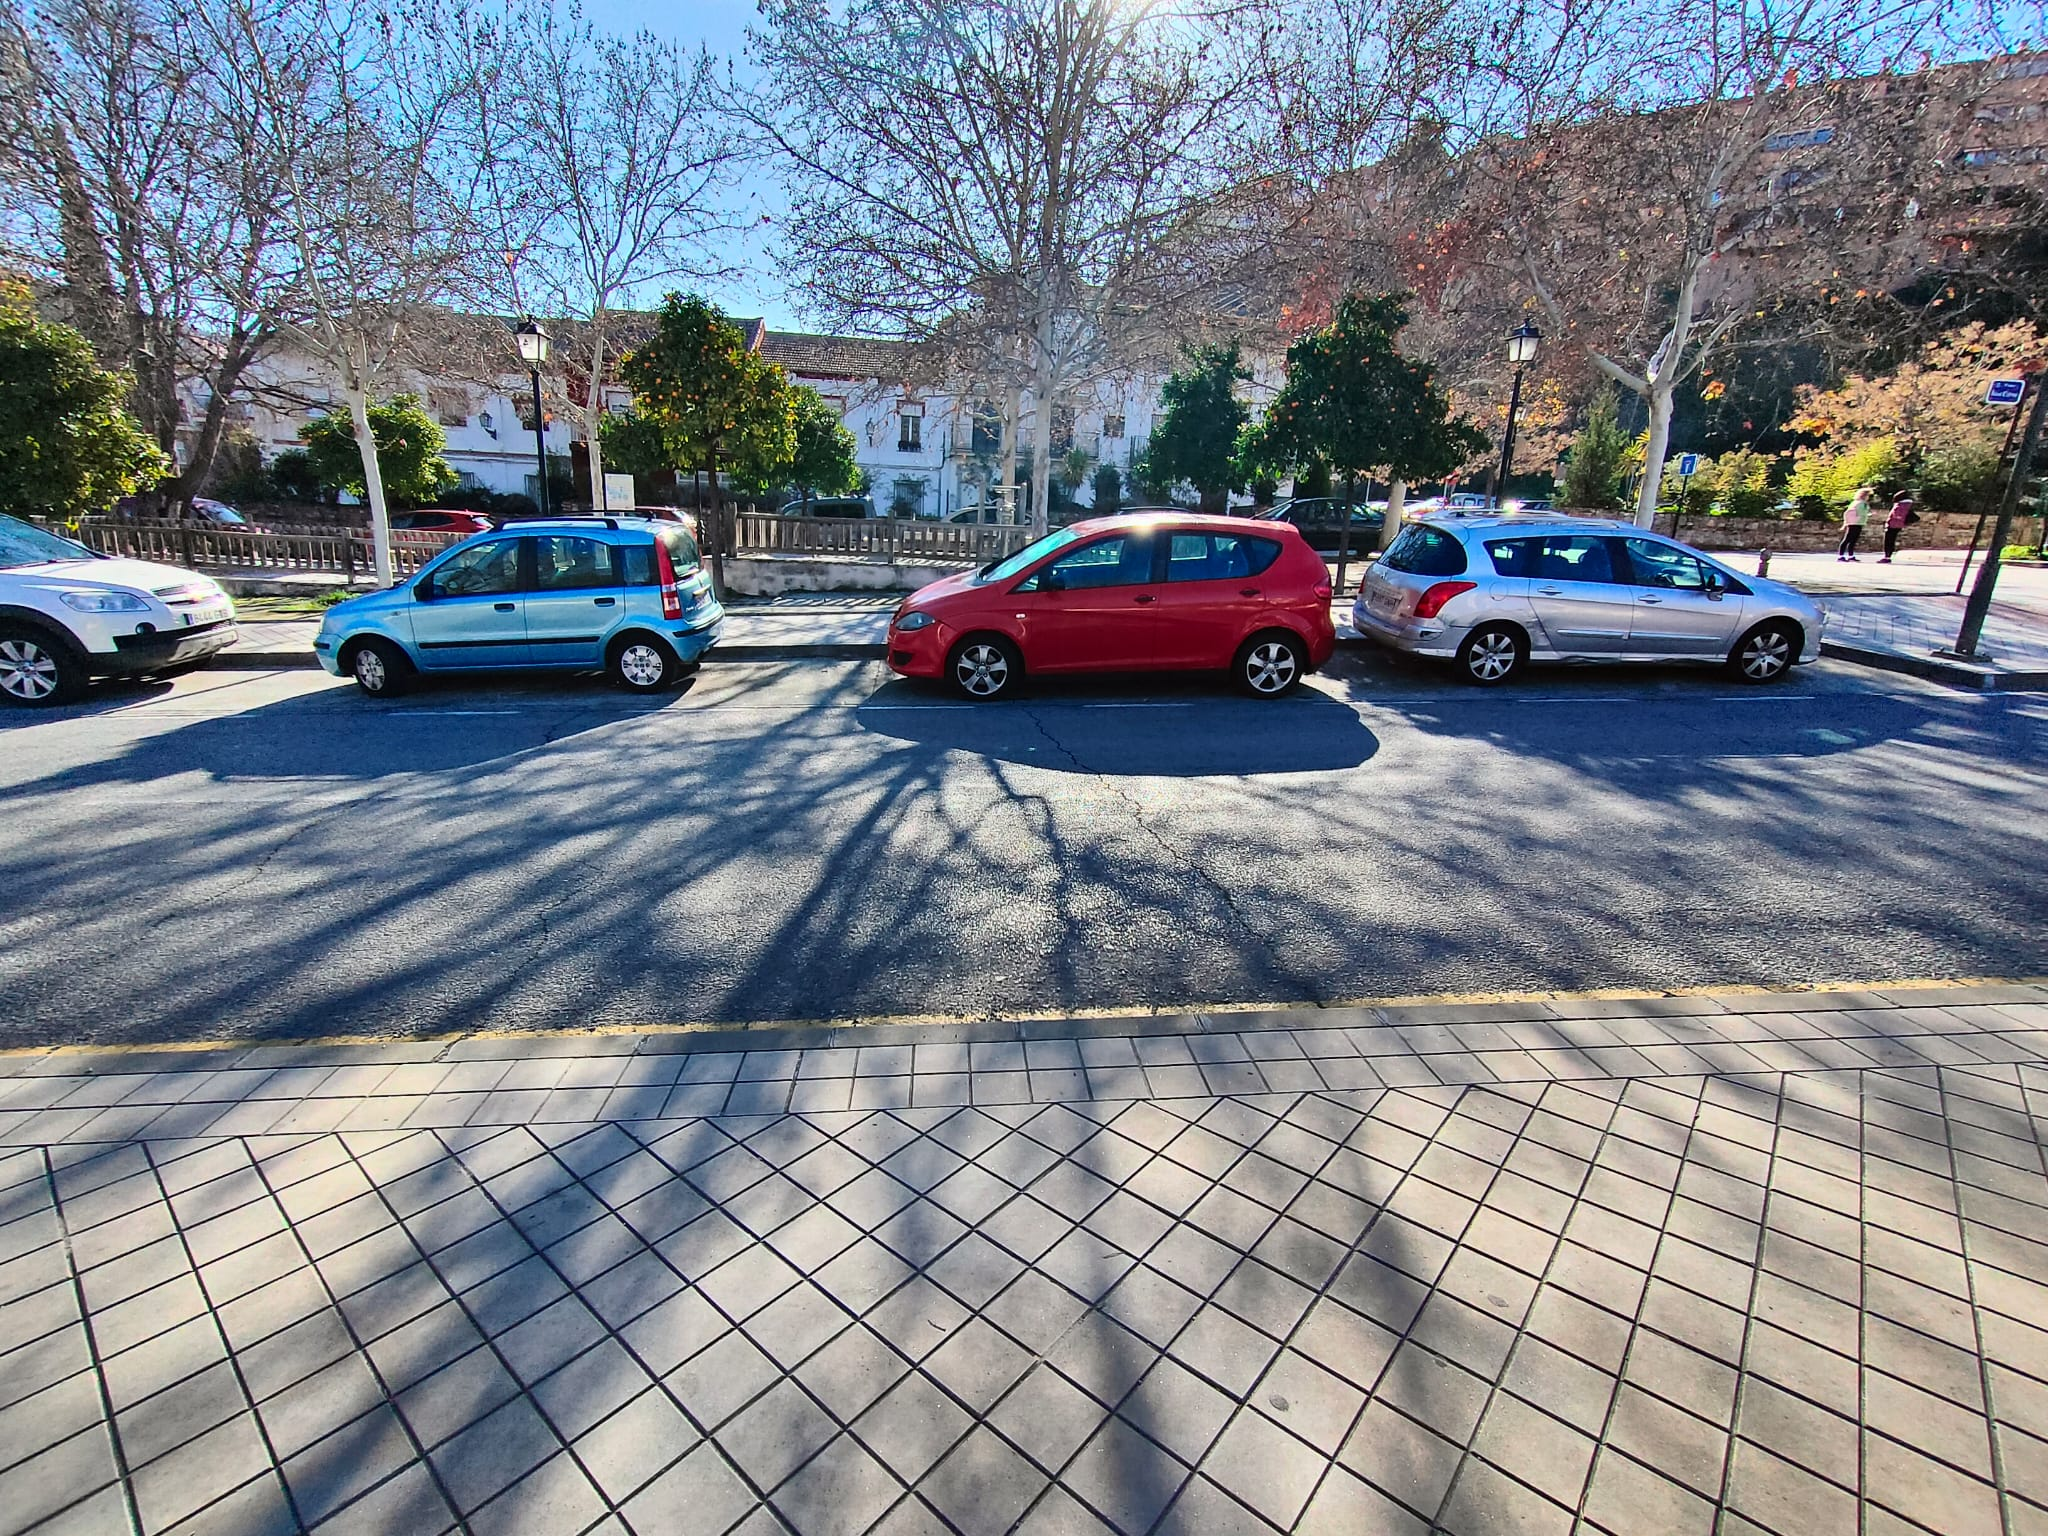car: (885, 486, 1342, 708), (300, 510, 719, 731), (1372, 507, 1830, 694), (3, 492, 239, 710), (1272, 489, 1384, 555)
